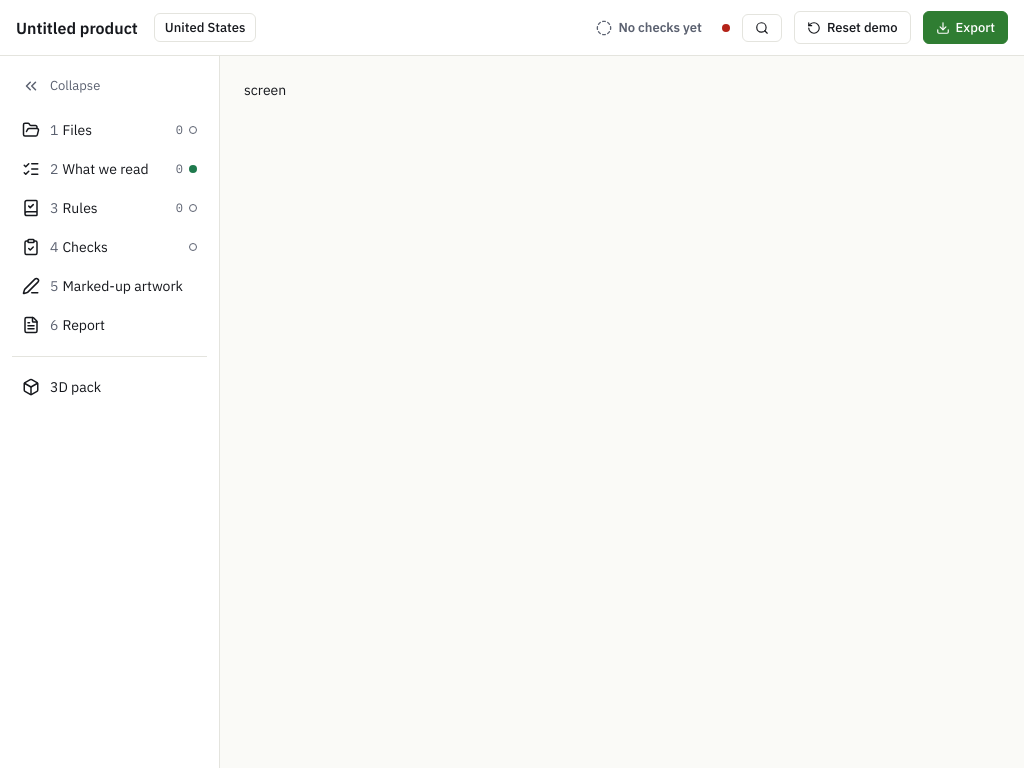
Ask about this panel › an error shows the reason and Retry asks again
Expected: the text "screen" is shown, left=244, top=81, right=286, bottom=99
Click the button named "Ask about this" at [762, 28], box left=742, top=14, right=782, bottom=42
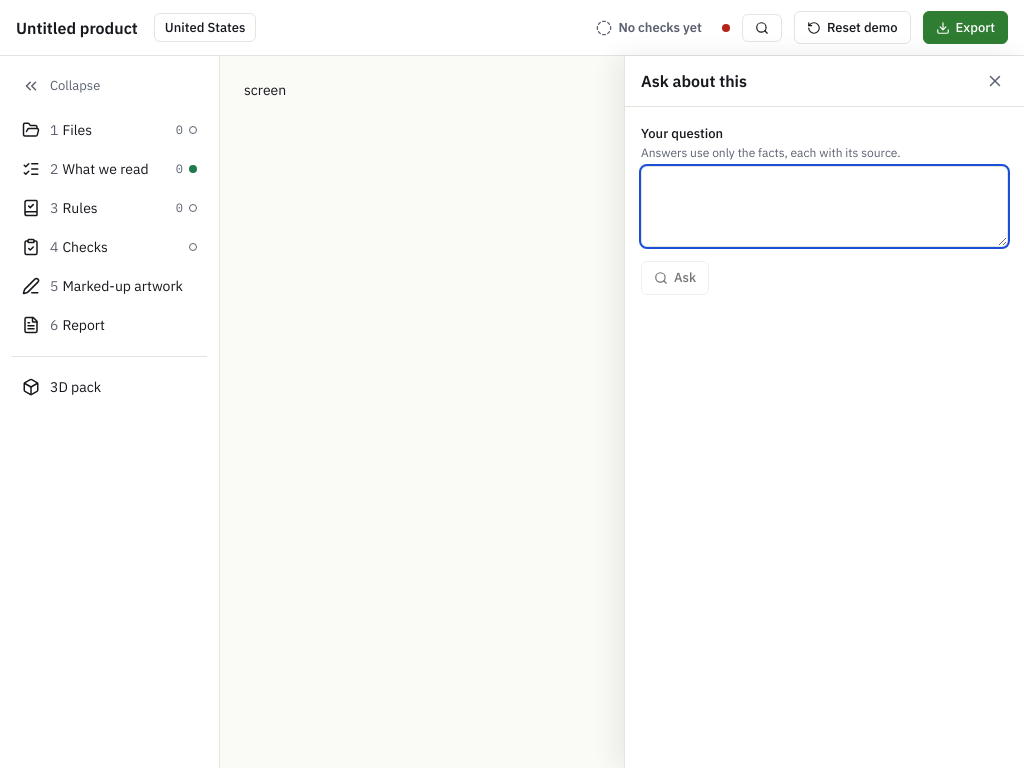
Type "weight" into the text box labelled "Your question" at [824, 206], box left=641, top=166, right=1008, bottom=247
Then press Enter
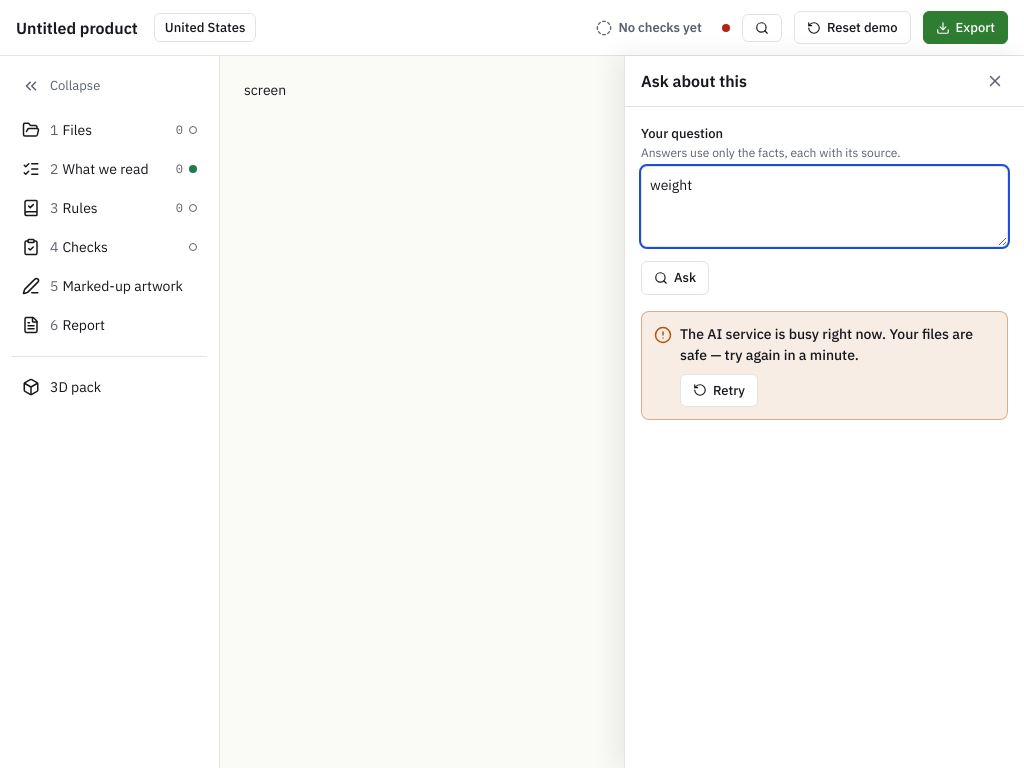
Expected: the 2nd message shows "The AI service is busy", left=680, top=324, right=973, bottom=364
Click the button "Retry" at [719, 390], box left=680, top=374, right=758, bottom=407
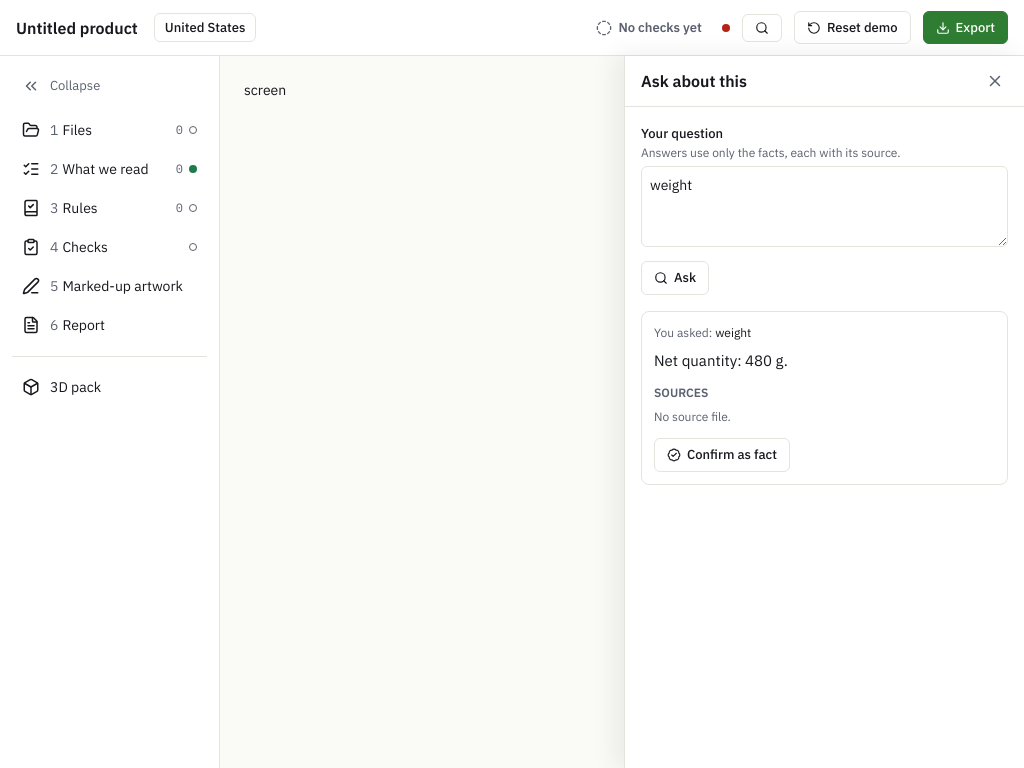
Expected: the element named "Answer" shows "480 g", left=654, top=350, right=788, bottom=370
